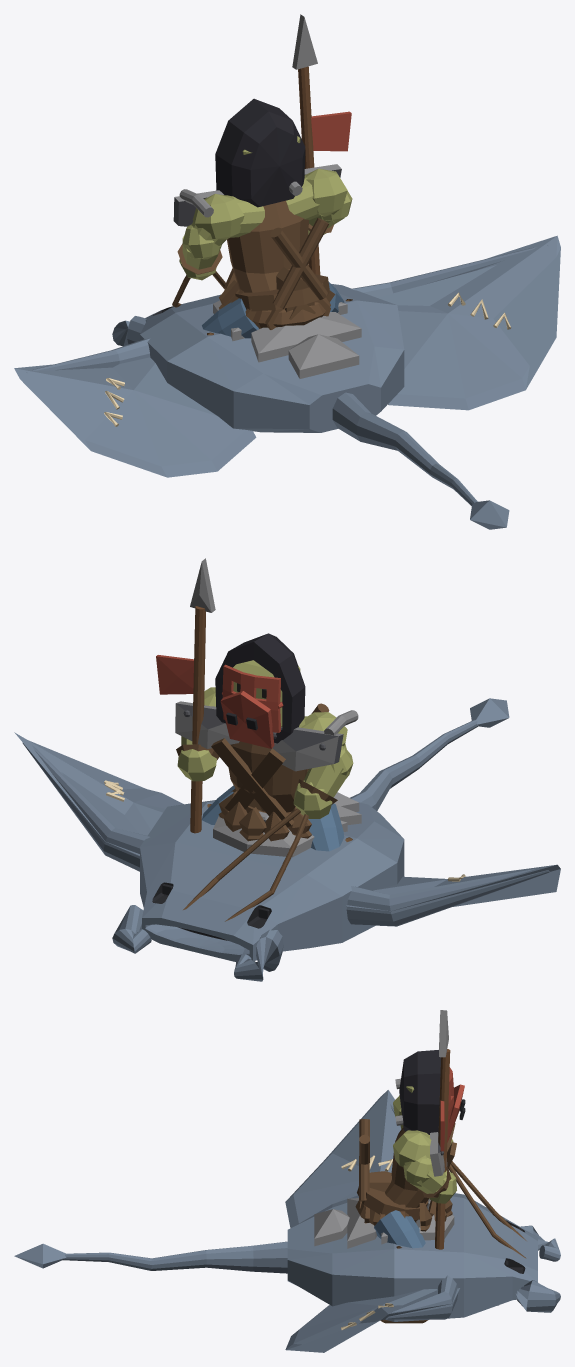
The model's file is host_39.glb.
3 renders of one model, top to bottom at view 1: azimuth 30°, elevation 25°; view 2: azimuth 150°, elevation 25°; view 3: azimuth 270°, elevation 25°, orthographic. The views are drawn at different scales.
Parts seen in each view (by area): view 1: V6 manta actual swept curved broad pectoral fin.001, V6 manta source integrated rounded flattened trunk, V6 manta actual swept curved broad pectoral fin, V6 source fitted domed cloth hood, V6 rider source seated thorax, V6 manta source long tapering articulate sting tail, V6 manta actual fitted overlapping riveted dorsal plate.001, V6 manta actual fitted overlapping riveted dorsal plate, V6 manta actual contacting fin leading forelimb.001, Connected shoulder L, V6 manta actual contacting fin leading forelimb, V6 source physical contacting spear pennant (+14 smaller); view 2: V6 manta source integrated rounded flattened trunk, V6 manta actual swept curved broad pectoral fin.001, V6 manta actual contacting fin leading forelimb, V6 source fitted domed cloth hood, V6 manta actual contacting fin leading forelimb.001, V6 manta actual swept curved broad pectoral fin, V6 manta source long tapering articulate sting tail, V6 source angled fitted shoulder plate L, V6 source continuous held spear shaft, Manta rider intimidating red mask, V6 rider source seated thorax, V6 source continuous fitted mask with real eye openings (+17 smaller); view 3: V6 manta source integrated rounded flattened trunk, V6 manta actual swept curved broad pectoral fin, V6 manta source long tapering articulate sting tail, V6 manta actual swept curved broad pectoral fin.001, V6 source fitted domed cloth hood, V6 manta actual contacting fin leading forelimb.001, V6 source continuous held spear shaft, V6 rider actual connected seated thigh R, V6 rider source seated thorax, V6 manta actual fitted overlapping riveted dorsal plate, V6 manta actual integrated curled cephalic front fin.001, V6 source actual curved contacting muzzle to glove leather r (×2) (+9 smaller).
Boxes of the visible parts, bbox=[...] form: V6 manta actual swept curved broad pectoral fin.001: bbox=[377, 235, 560, 410]; V6 manta source integrated rounded flattened trunk: bbox=[140, 284, 404, 432]; V6 manta actual swept curved broad pectoral fin: bbox=[14, 357, 256, 477]; V6 source fitted domed cloth hood: bbox=[215, 98, 305, 207]; V6 rider source seated thorax: bbox=[227, 200, 308, 292]; V6 manta source long tapering articulate sting tail: bbox=[332, 392, 477, 506]; V6 manta actual fitted overlapping riveted dorsal plate.001: bbox=[251, 312, 361, 362]; V6 manta actual fitted overlapping riveted dorsal plate: bbox=[288, 334, 359, 378]; V6 manta actual contacting fin leading forelimb.001: bbox=[351, 245, 547, 297]; Connected shoulder L: bbox=[192, 193, 244, 239]; V6 manta actual contacting fin leading forelimb: bbox=[26, 338, 150, 372]; V6 source physical contacting spear pennant: bbox=[311, 111, 351, 151]; V6 manta source integrated rounded flattened trunk: bbox=[140, 800, 404, 961]; V6 manta actual swept curved broad pectoral fin.001: bbox=[14, 732, 183, 856]; V6 manta actual contacting fin leading forelimb: bbox=[346, 868, 549, 926]; V6 source fitted domed cloth hood: bbox=[215, 633, 305, 743]; V6 manta actual contacting fin leading forelimb.001: bbox=[22, 743, 149, 871]; V6 manta actual swept curved broad pectoral fin: bbox=[345, 864, 560, 911]; V6 manta source long tapering articulate sting tail: bbox=[350, 719, 479, 810]; V6 source angled fitted shoulder plate L: bbox=[270, 727, 343, 771]; V6 source continuous held spear shaft: bbox=[190, 606, 205, 833]; Manta rider intimidating red mask: bbox=[220, 691, 274, 748]; V6 rider source seated thorax: bbox=[228, 741, 307, 812]; V6 source continuous fitted mask with real eye openings: bbox=[222, 664, 280, 732]; V6 manta source integrated rounded flattened trunk: bbox=[287, 1193, 537, 1321]; V6 manta actual swept curved broad pectoral fin: bbox=[285, 1090, 401, 1228]; V6 manta source long tapering articulate sting tail: bbox=[62, 1241, 287, 1273]; V6 manta actual swept curved broad pectoral fin.001: bbox=[285, 1288, 459, 1352]; V6 source fitted domed cloth hood: bbox=[399, 1050, 440, 1134]; V6 manta actual contacting fin leading forelimb.001: bbox=[385, 1275, 458, 1319]; V6 source continuous held spear shaft: bbox=[435, 1049, 450, 1249]; V6 rider actual connected seated thigh R: bbox=[374, 1210, 425, 1248]; V6 rider source seated thorax: bbox=[385, 1127, 428, 1207]; V6 manta actual fitted overlapping riveted dorsal plate: bbox=[314, 1209, 349, 1246]; V6 manta actual integrated curled cephalic front fin.001: bbox=[498, 1280, 560, 1312]; V6 source actual curved contacting muzzle to glove leather r (×2): bbox=[448, 1161, 526, 1258].
Bounding box in the file's own units: 2.74 × 1.71 × 2.82.
